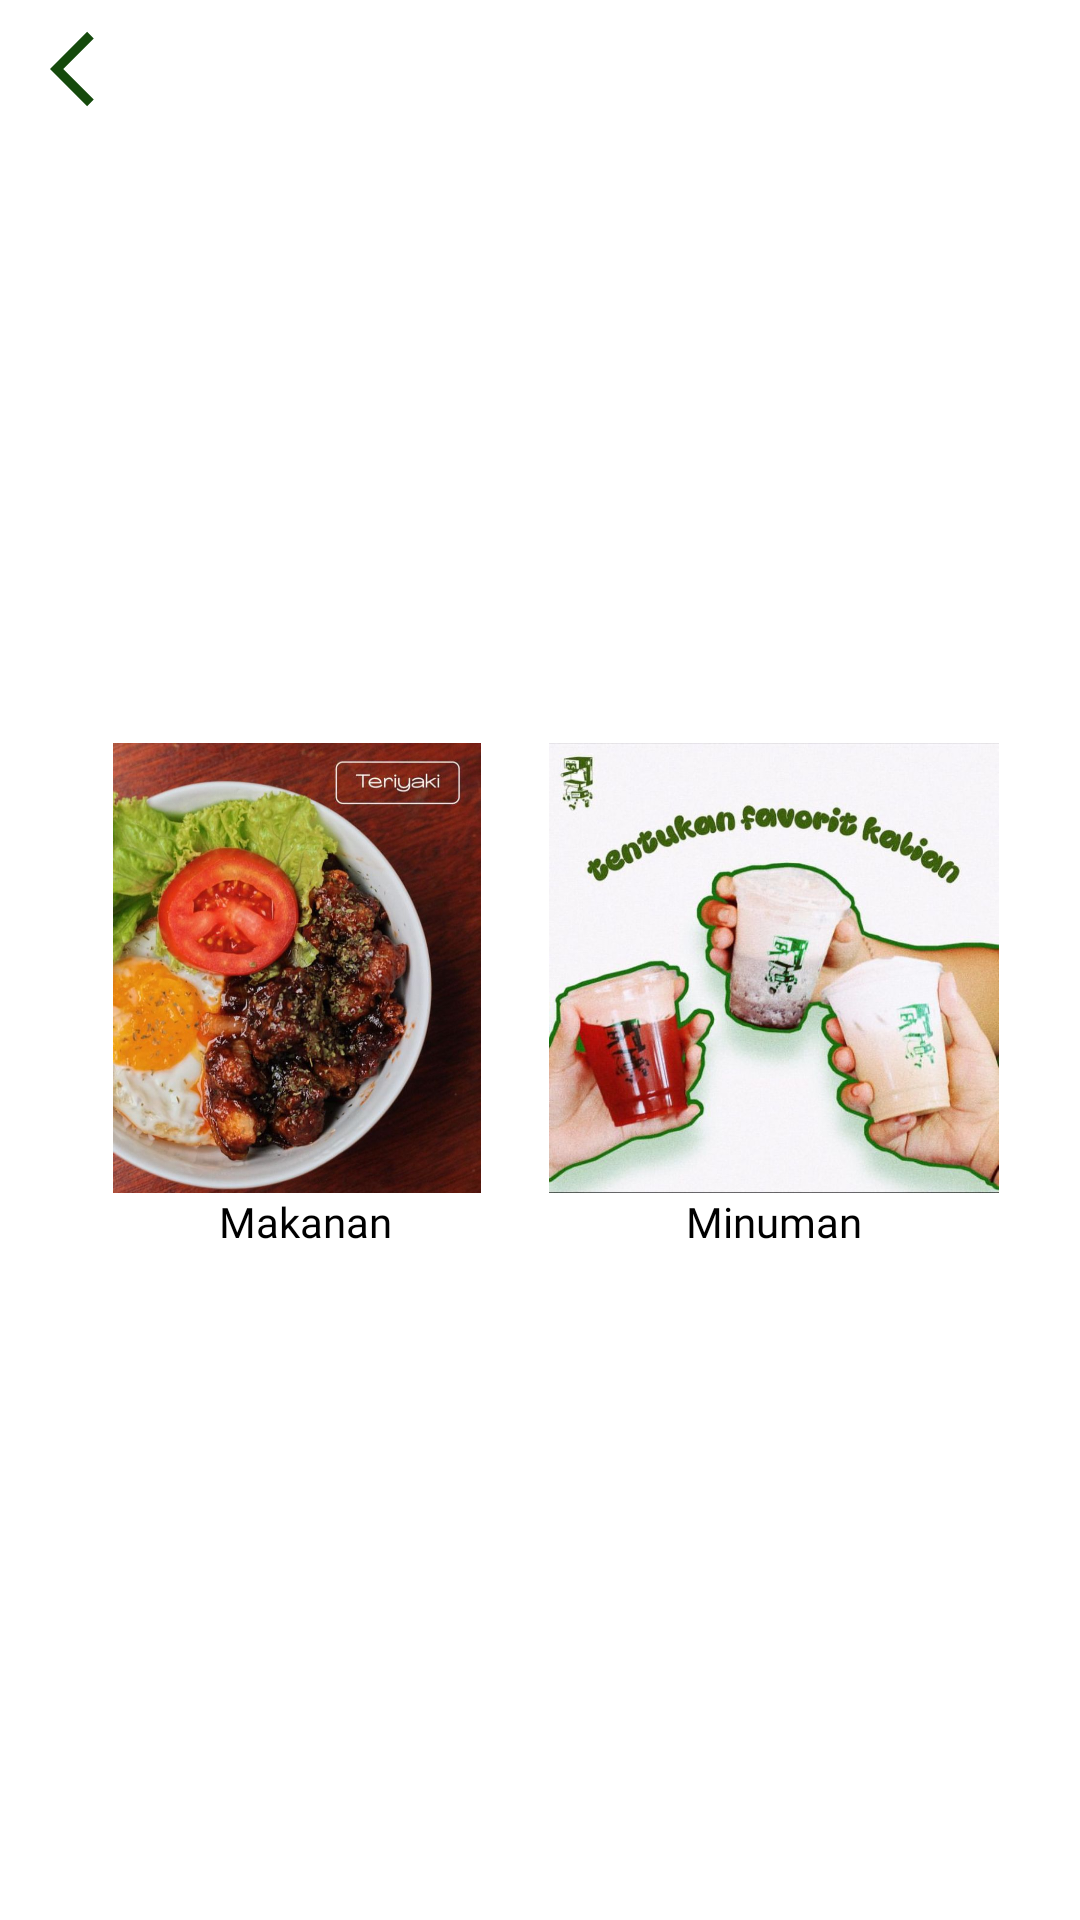

Icon click points for this 1080x1920 phone screenshot, format point (x, y):
back: point (72, 69)
